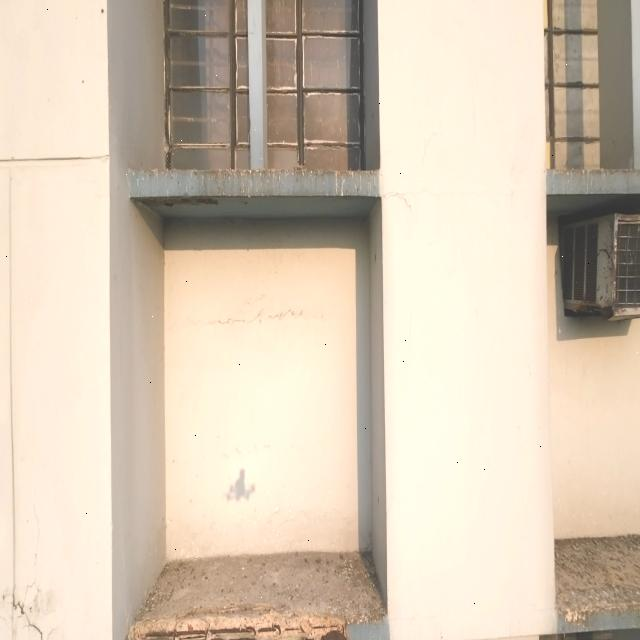crack: (4, 467, 74, 639)
